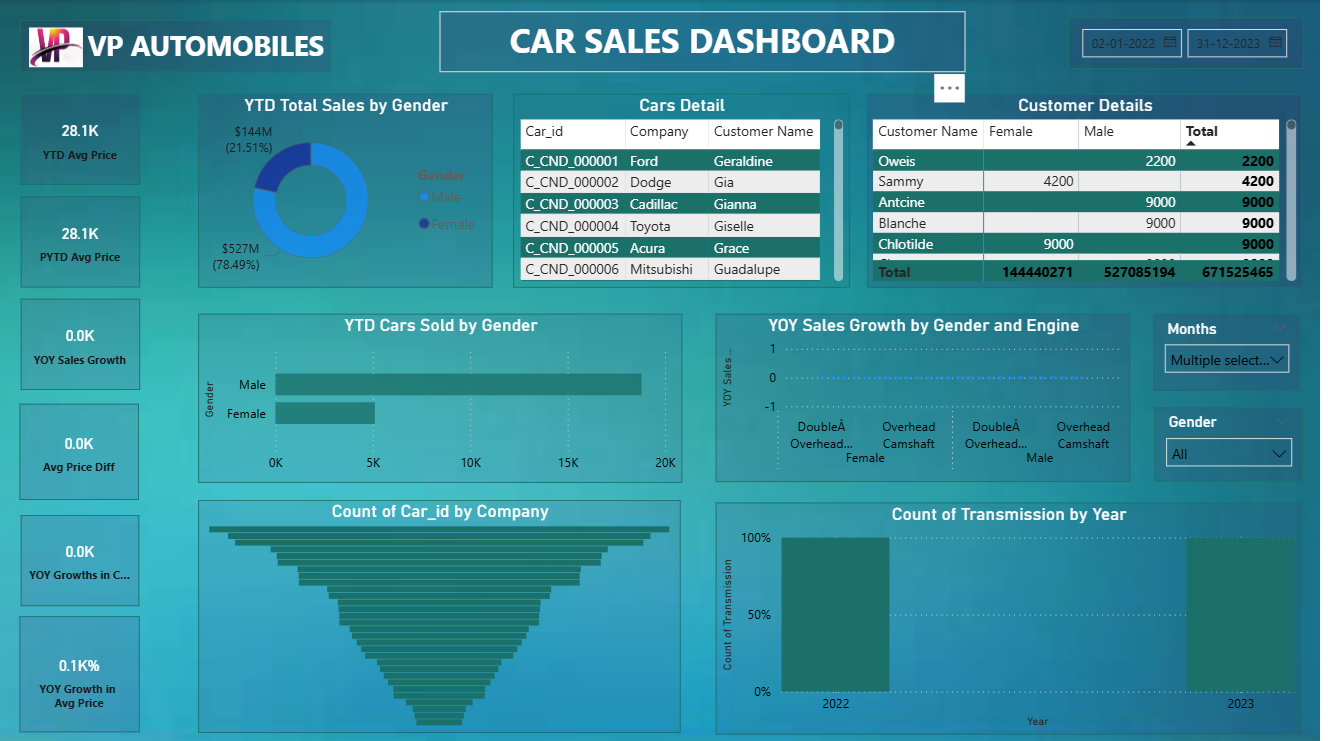

This screenshot's page, from the dashboard's own definition file:
{"tool":"powerbi","page":{"name":"Dashboard","canvas":[1280,720],"ordinal":1},"visuals":[{"type":"card","fields":{"Values":["calender_data.YTD Avg Price"]},"box":[22.3,90.4,114.9,88.3],"z":0},{"type":"card","fields":{"Values":["calender_data.YOY Sales Growth"]},"box":[22.3,288.3,114.9,88.3],"z":1000},{"type":"card","fields":{"Values":["calender_data.PYTD Avg Price"]},"box":[22.3,189.4,114.9,88.3],"z":2000},{"type":"card","fields":{"Values":["calender_data.YOY Growth in Avg Price"]},"box":[21.3,595.4,115.7,112],"z":3000},{"type":"card","fields":{"Values":["calender_data.YOY Growths in Cars Sold"]},"box":[22.7,496.9,114.4,87.6],"z":4000},{"type":"card","fields":{"Values":["calender_data.Avg Price Diff"]},"box":[21.6,389.7,115.5,92.8],"z":5000},{"type":"textbox","box":[21.6,19.3,300,50],"z":6000},{"type":"donutChart","fields":{"Y":["calender_data.YTD Total Sales"],"Category":["cardata.Gender"]},"box":[194.7,90.4,284,187.2],"z":7000},{"type":"tableEx","title":"Cars Detail","fields":{"Values":["cardata.Car_id","cardata.Company","cardata.Customer Name"]},"box":[497.9,90.4,324.5,187.2],"z":8000},{"type":"pivotTable","title":"Customer Details","fields":{"Rows":["cardata.Customer Name"],"Columns":["cardata.Gender"],"Values":["cardata.Price ($)"]},"box":[839.4,90.4,420.2,187.2],"z":9000},{"type":"clusteredBarChart","fields":{"Y":["calender_data.YTD Cars Sold"],"Category":["cardata.Gender"]},"box":[194.2,302.8,466.9,162.9],"z":10000},{"type":"slicer","fields":{"Values":["cardata.Gender"]},"box":[1117.2,393.3,143.6,71.2],"z":11000},{"type":"areaChart","fields":{"Y":["calender_data.YOY Sales Growth"],"Category":["cardata.Gender","cardata.Engine"]},"box":[693.6,303.2,400,162.8],"z":12000},{"type":"funnel","fields":{"Y":["cardata.Car_id"],"Category":["cardata.Company"]},"box":[194.7,483,466,224.5],"z":13000},{"type":"hundredPercentStackedColumnChart","fields":{"Category":["cardata.Date.Variation.Date Hierarchy.Year","cardata.Date.Variation.Date Hierarchy.Quarter","cardata.Date.Variation.Date Hierarchy.Day"],"Y":["cardata.Transmission"]},"box":[693.8,484.5,564.9,223.7],"z":14000},{"type":"textbox","box":[427.3,11.4,508,59.1],"z":15000},{"type":"slicer","fields":{"Values":["calender_data.Months"]},"box":[1116.5,303.1,142.3,74.2],"z":16000},{"type":"image","box":[22.7,21.6,68,48.5],"z":17000},{"type":"slicer","fields":{"Values":["cardata.Date"]},"box":[1034,16.5,226.8,49.5],"z":18000}]}

Visuals, with their boxes in screenshot pixels (x1, y1, x2, y2), scaled from the page's 1280x720 canvas onto the 1328x741 screenshot:
card - calender_data.YTD Avg Price: [left=23, top=93, right=142, bottom=184]
card - calender_data.YOY Sales Growth: [left=23, top=297, right=142, bottom=388]
card - calender_data.PYTD Avg Price: [left=23, top=195, right=142, bottom=286]
card - calender_data.YOY Growth in Avg Price: [left=22, top=613, right=142, bottom=728]
card - calender_data.YOY Growths in Cars Sold: [left=24, top=511, right=142, bottom=602]
card - calender_data.Avg Price Diff: [left=22, top=401, right=142, bottom=497]
textbox: [left=22, top=20, right=334, bottom=71]
donutChart - calender_data.YTD Total Sales x cardata.Gender: [left=202, top=93, right=497, bottom=286]
"Cars Detail" tableEx: [left=517, top=93, right=853, bottom=286]
"Customer Details" pivotTable: [left=871, top=93, right=1307, bottom=286]
clusteredBarChart - calender_data.YTD Cars Sold x cardata.Gender: [left=201, top=312, right=686, bottom=479]
slicer - cardata.Gender: [left=1159, top=405, right=1308, bottom=478]
areaChart - calender_data.YOY Sales Growth x cardata.Gender: [left=720, top=312, right=1135, bottom=480]
funnel - cardata.Car_id x cardata.Company: [left=202, top=497, right=685, bottom=728]
hundredPercentStackedColumnChart - cardata.Date.Variation.Date Hierarchy.Year x cardata.Date.Variation.Date Hierarchy.Quarter: [left=720, top=499, right=1306, bottom=729]
textbox: [left=443, top=12, right=970, bottom=73]
slicer - calender_data.Months: [left=1158, top=312, right=1306, bottom=388]
image: [left=24, top=22, right=94, bottom=72]
slicer - cardata.Date: [left=1073, top=17, right=1308, bottom=68]
